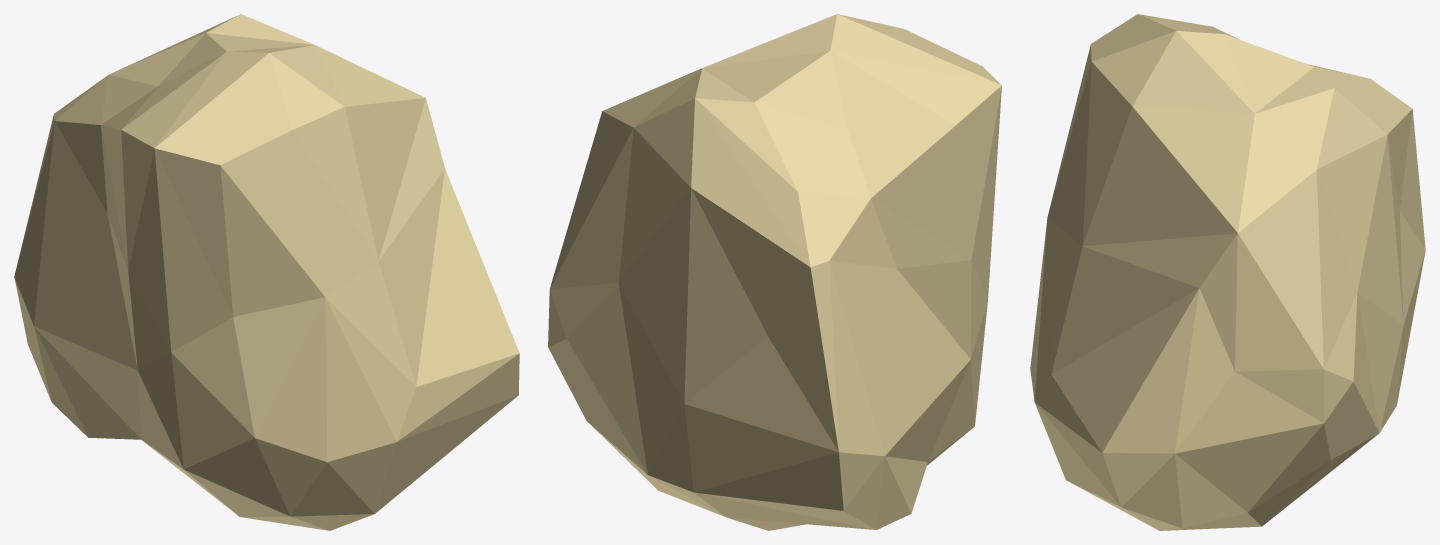
File: Rock (90).fbx
The picture shows the model from 3 angles, left to right: view 1: azimuth 30°, elevation 25°; view 2: azimuth 150°, elevation 25°; view 3: azimuth 270°, elevation 25°; orthographic projection. The views are drawn at different scales.
Visible parts, largest first — view 1: Asteroid89; view 2: Asteroid89; view 3: Asteroid89.
Boxes of the visible parts, <box> form: Asteroid89: <box>14,14,519,530</box>; Asteroid89: <box>548,14,1001,530</box>; Asteroid89: <box>1030,14,1425,530</box>.
Size of the model in its own units: 78.42 by 98.15 by 74.55.
